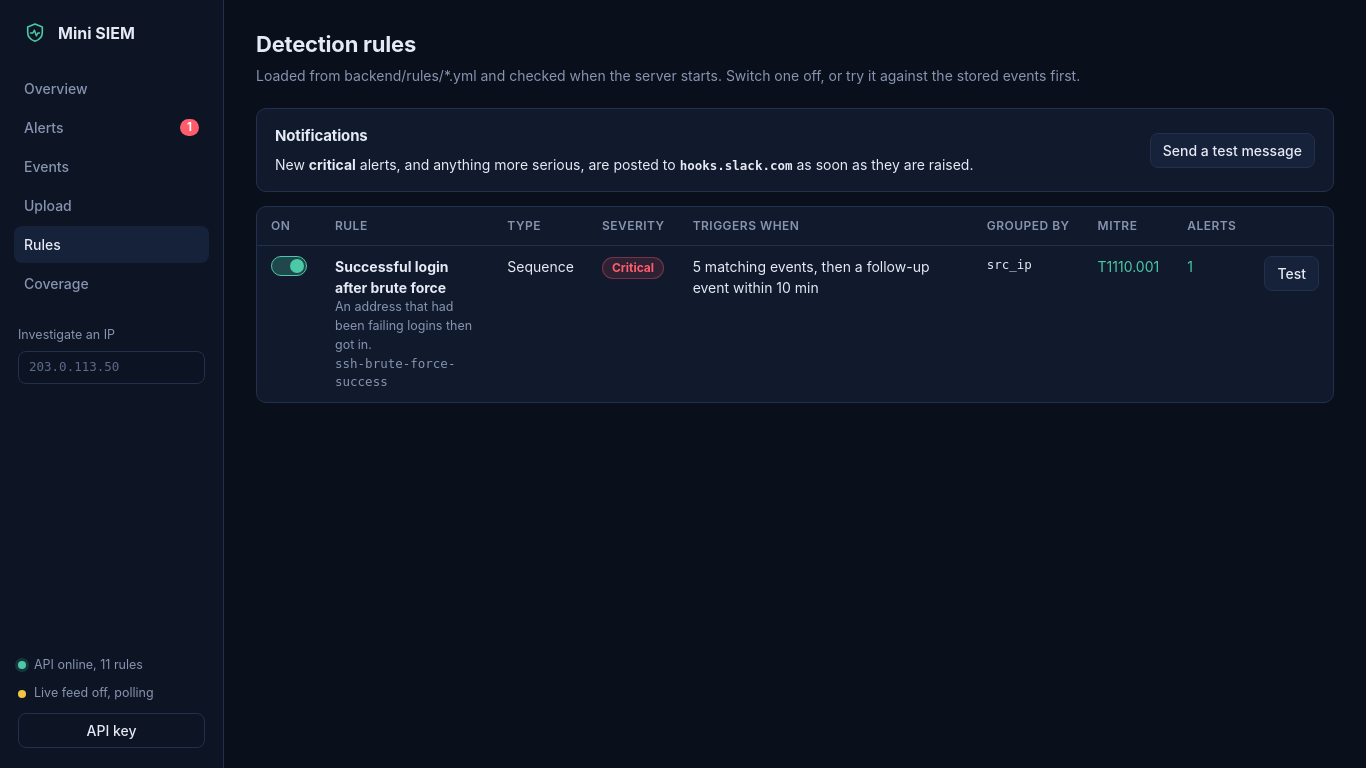
Test case: Rules: respond › shows where critical alerts are sent and can send a test message
This screenshot has width=1366, height=768.
Expected: the text "hooks.slack.com" is shown, [680,158,792,172]
Step 1. Click the button "Send a test message" → (1232, 150), box [1150,133,1315,168]
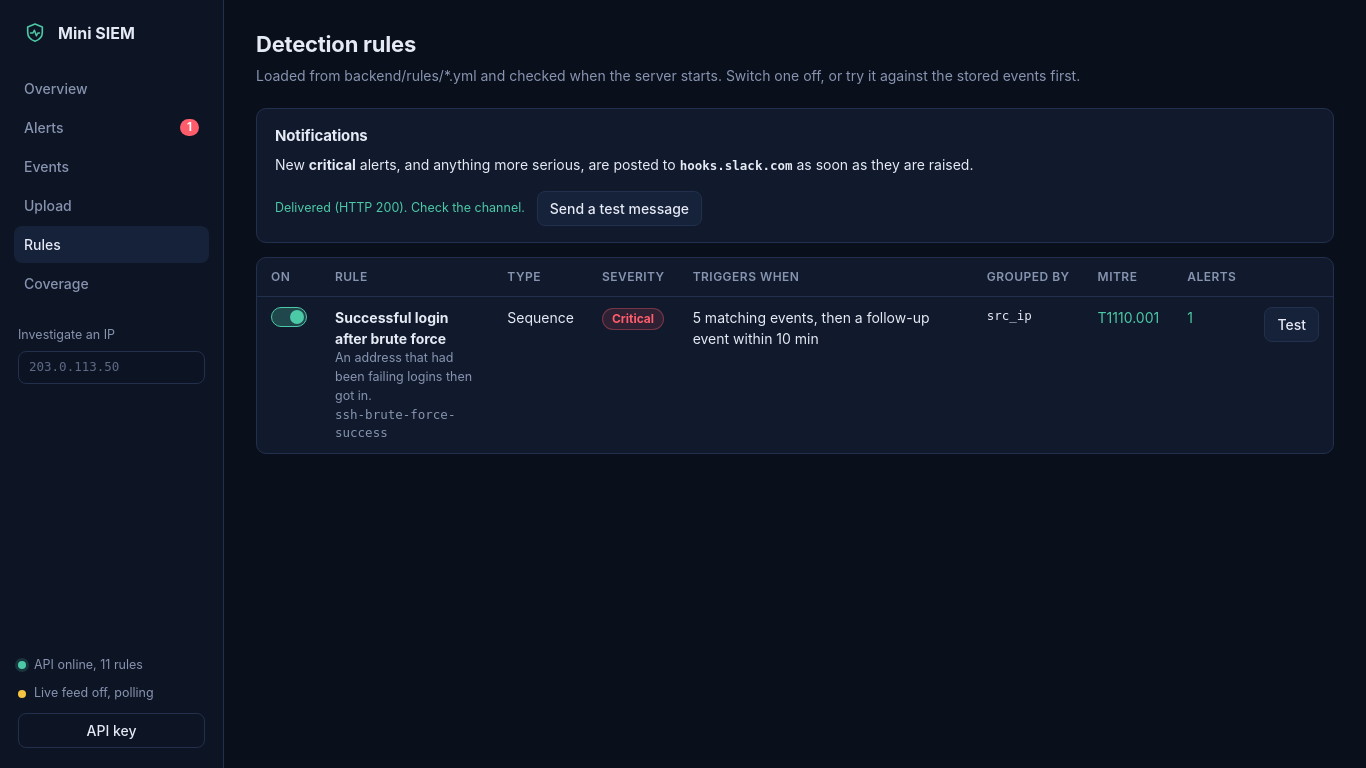
Now the text "Delivered (HTTP 200). Check the channel." is shown, box [275,199,525,218]
